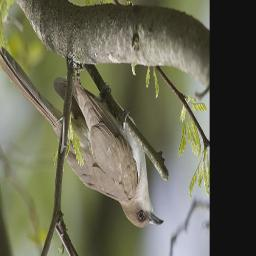Cuckoo: (0, 47, 162, 231)
